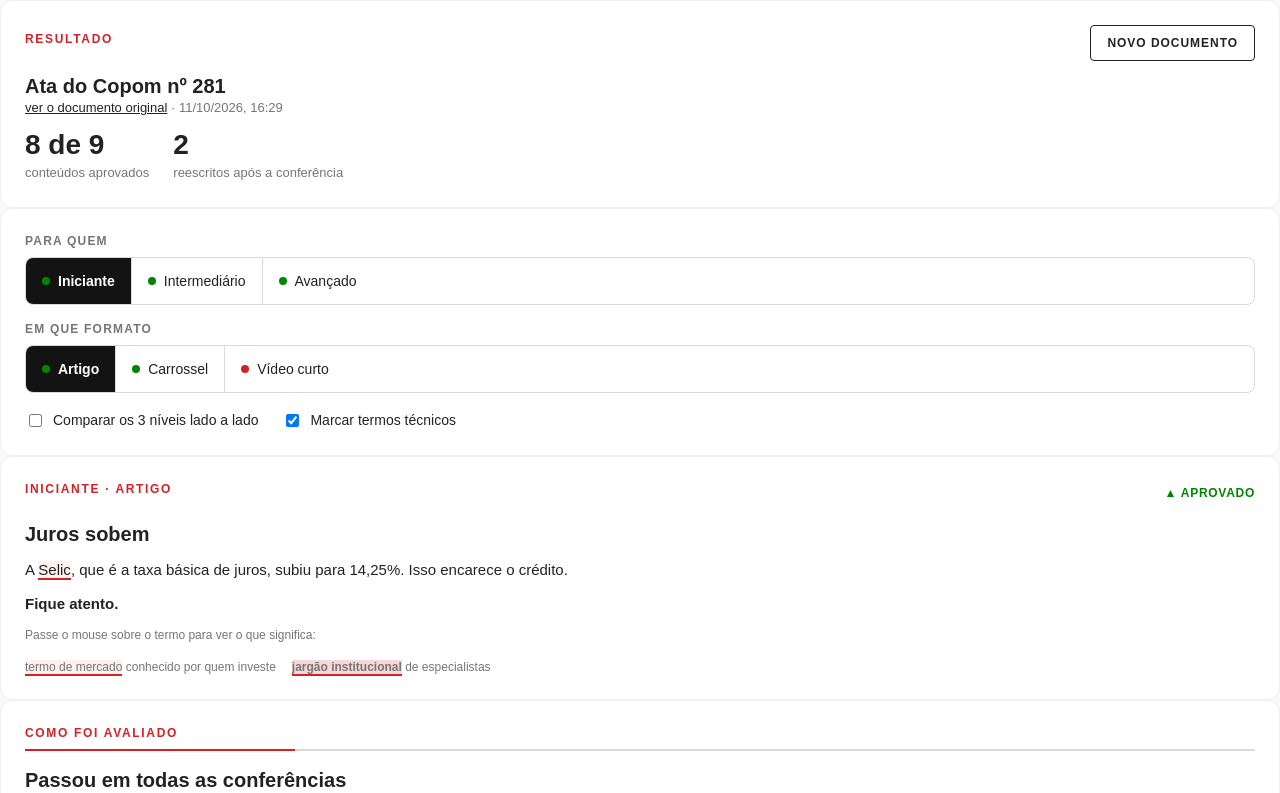
Test: Resultado › trocar o nível e o formato mostra outro conteúdo
Click the button "Avançado" at (318, 281), box [262, 258, 372, 304]
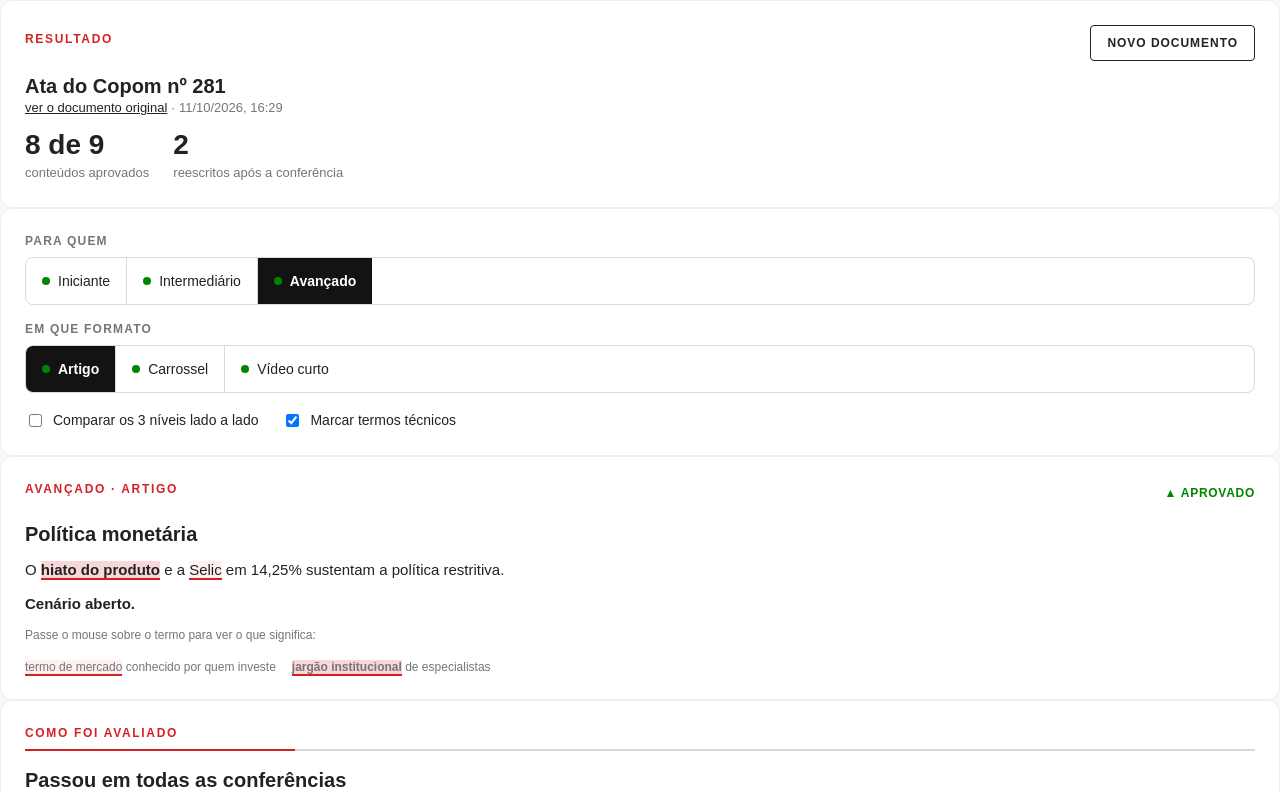
Expected: the heading "Avançado · Artigo" is shown, [25, 482, 178, 496]
Expected: the text "Política monetária" is shown, [25, 523, 197, 545]
Click the button "Carrossel" at (171, 369), box [116, 346, 225, 392]
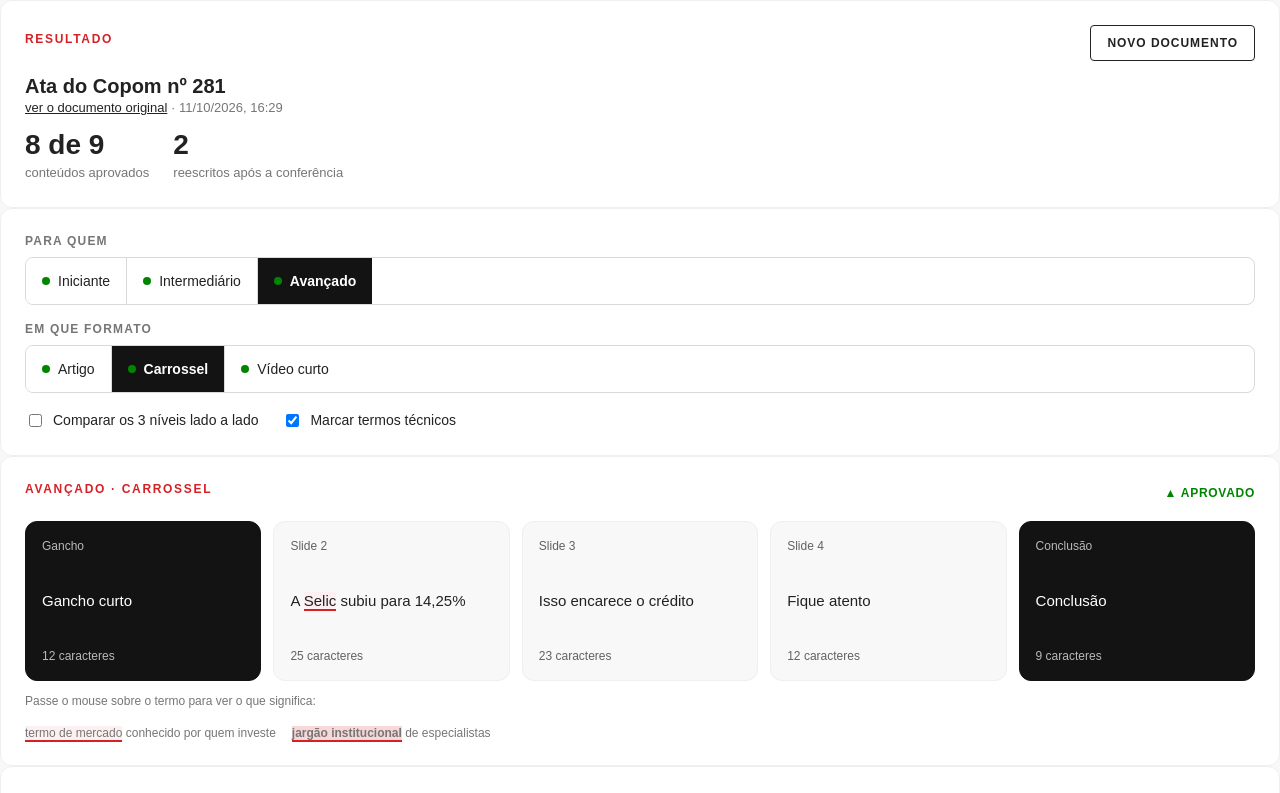
Expected: the heading "Avançado · Carrossel" is shown, [25, 482, 212, 496]
Expected: the text "Gancho curto" is shown, [42, 592, 132, 609]
Expected: the text "Gancho" is shown, [42, 539, 84, 553]
Click the button "Vídeo curto" at (285, 369), box [225, 346, 345, 392]
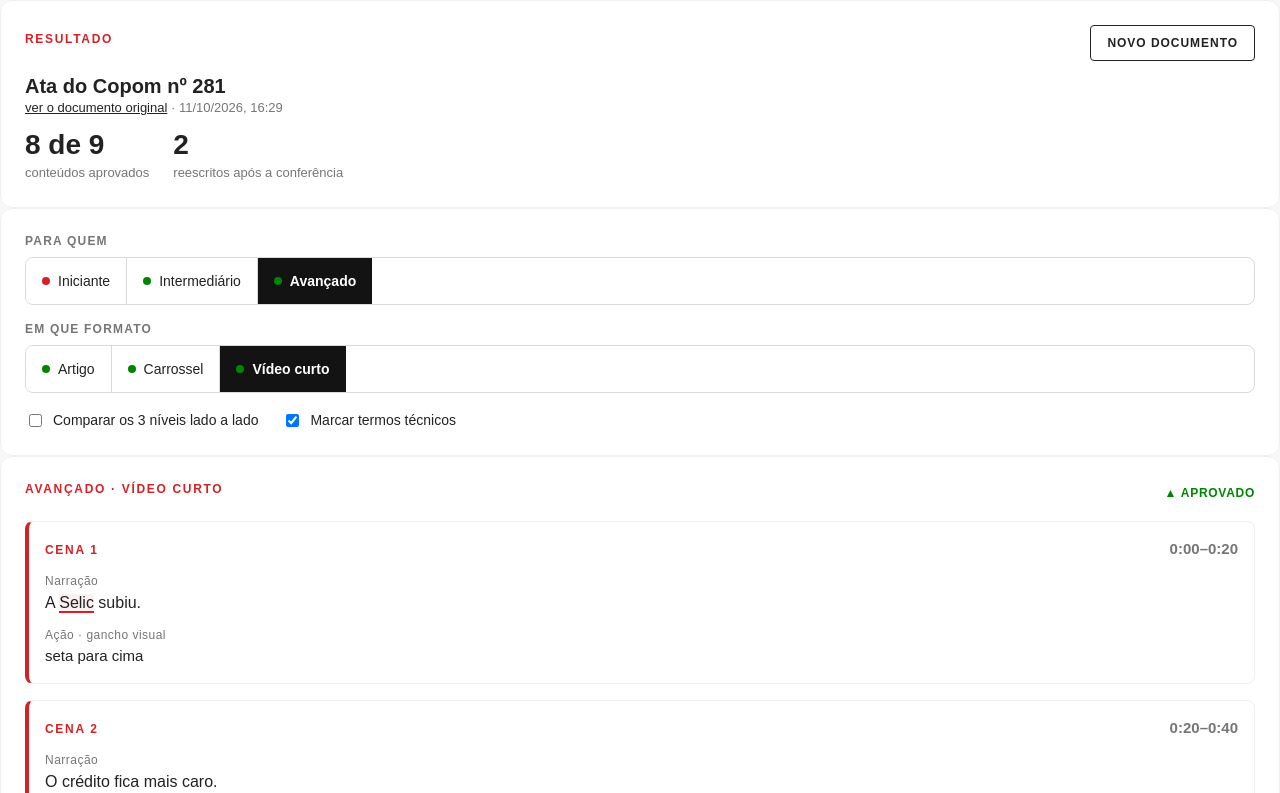
Expected: the text "Ação · gancho visual" is shown, [45, 628, 166, 642]
Expected: the text "seta para cima" is shown, [45, 647, 143, 664]
Expected: the text "0:00–0:20" is shown, [1170, 538, 1238, 560]
